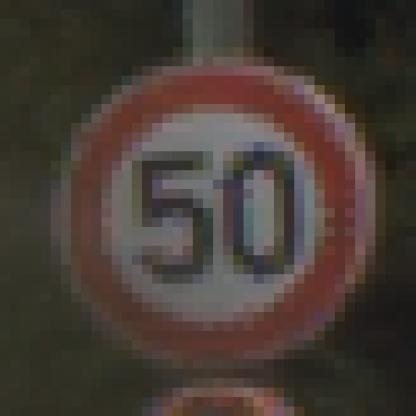Speed Limit 50: (59, 64, 367, 366)
